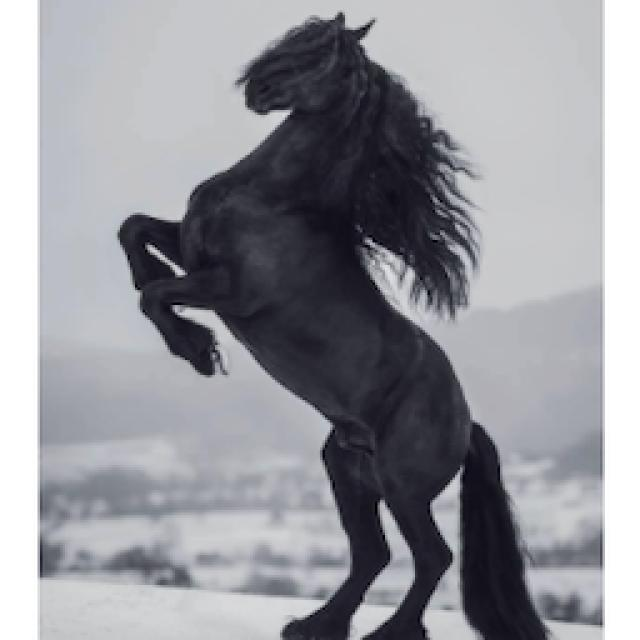Horse: (112, 8, 572, 638)
